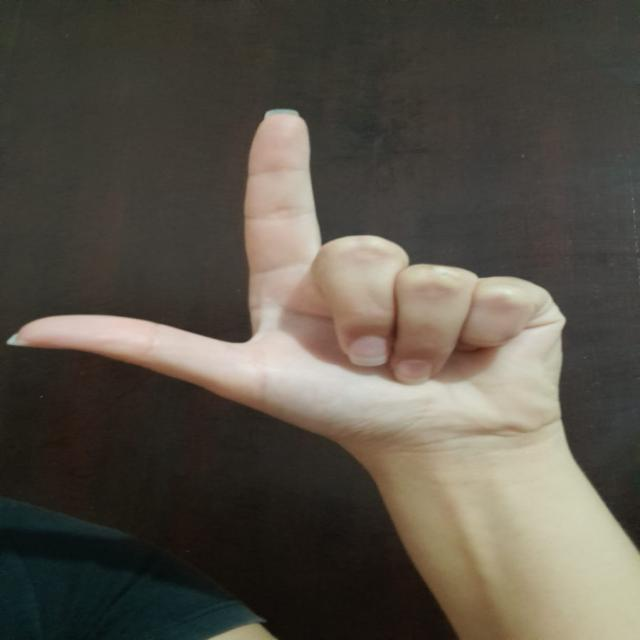L: (0, 102, 619, 444)
